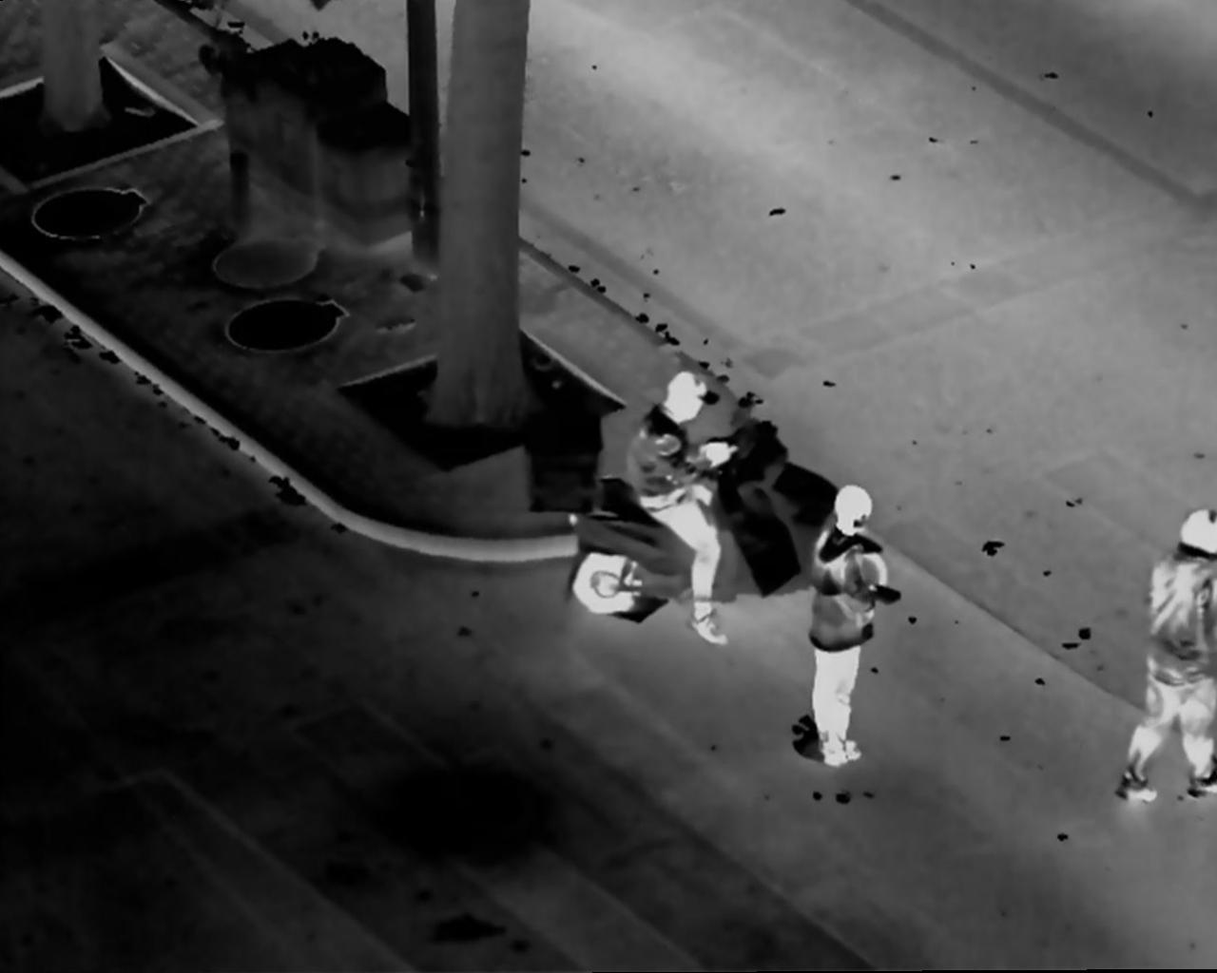person: (624, 369, 745, 650), (1113, 498, 1217, 809), (808, 482, 897, 775)
